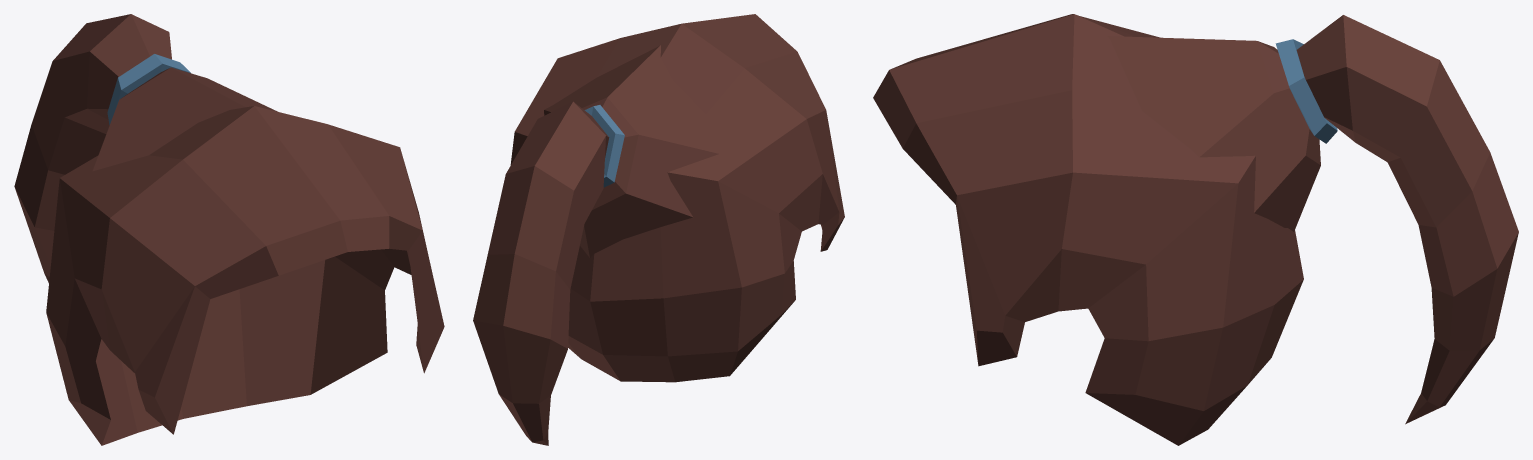
The model's file is Pedestrian_F_Hair_B.fbx.
3 views of the same model, side by side, from view 1: azimuth 30°, elevation 25°; view 2: azimuth 150°, elevation 25°; view 3: azimuth 270°, elevation 25° (orthographic). The views are drawn at different scales.
Parts seen in each view (by area): view 1: Pedestrian_F_Hair_B; view 2: Pedestrian_F_Hair_B; view 3: Pedestrian_F_Hair_B.
Part boxes in pixels (left/top/right/bottom): Pedestrian_F_Hair_B: left=14, top=14, right=444, bottom=445; Pedestrian_F_Hair_B: left=473, top=14, right=844, bottom=445; Pedestrian_F_Hair_B: left=873, top=14, right=1518, bottom=445.
Size of the model in its own units: 18.03 by 20.66 by 29.53.
